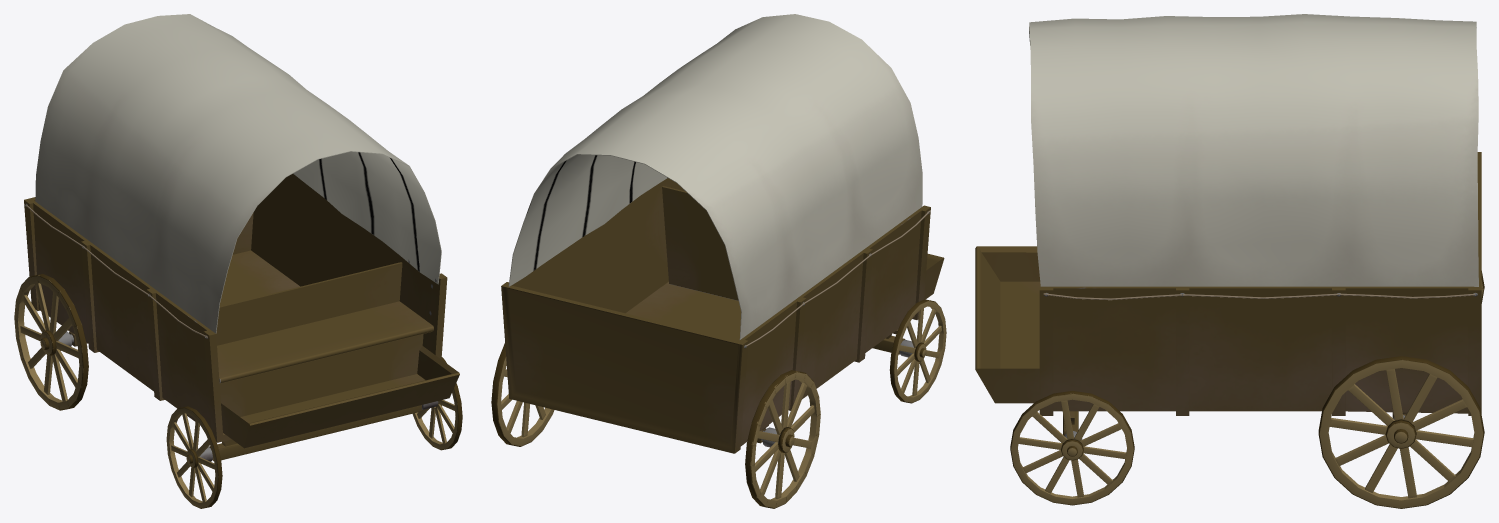
The model's file is mdl_wagon_full.fbx.
3 renders of one model, left to right at view 1: azimuth 30°, elevation 25°; view 2: azimuth 150°, elevation 25°; view 3: azimuth 270°, elevation 25°, orthographic. The views are drawn at different scales.
Parts seen in each view (by area): view 1: SM_Body, SM_Wheel_BR, SM_Wheel_FR, SM_Wheel_FL; view 2: SM_Body, SM_Wheel_BR, SM_Wheel_FR, SM_Wheel_BL; view 3: SM_Body, SM_Wheel_BL, SM_Wheel_FL.
Boxes of the visible parts, x1,y1,x2,y2 form: SM_Body: (24, 14, 459, 461); SM_Wheel_BR: (14, 274, 88, 410); SM_Wheel_FR: (166, 406, 222, 508); SM_Wheel_FL: (412, 357, 462, 450); SM_Body: (501, 14, 944, 453); SM_Wheel_BR: (745, 370, 820, 508); SM_Wheel_FR: (889, 299, 946, 403); SM_Wheel_BL: (491, 343, 554, 446); SM_Body: (975, 14, 1481, 439); SM_Wheel_BL: (1318, 356, 1484, 508); SM_Wheel_FL: (1010, 391, 1134, 505).
Size of the model in its own units: 2.25 by 2.72 by 3.11.
4 materials, 4 textured.
